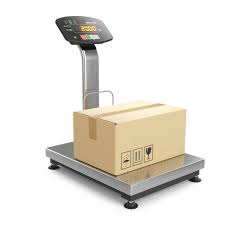Industrial Scale: (46, 15, 207, 210)
